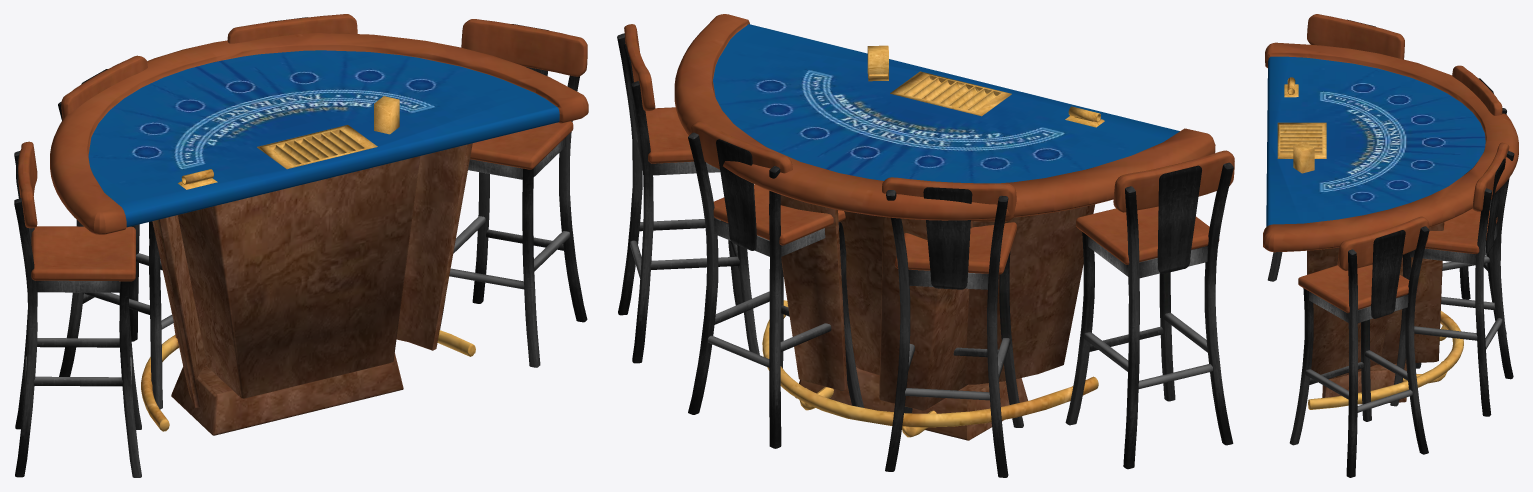
Rendered from black_jack_table.glb.
The picture shows the model from 3 angles, left to right: view 1: azimuth 30°, elevation 25°; view 2: azimuth 150°, elevation 25°; view 3: azimuth 270°, elevation 25°; orthographic projection. The views are drawn at different scales.
Visible parts, largest first — view 1: Object_25, Object_13; view 2: Object_25, Object_13; view 3: Object_25, Object_13.
Part boxes in pixels (x1=…): Object_25: x1=50, y1=33, x2=588, y2=435; Object_13: x1=14, y1=14, x2=587, y2=477; Object_25: x1=674, y1=14, x2=1215, y2=440; Object_13: x1=617, y1=24, x2=1234, y2=477; Object_25: x1=1263, y1=42, x2=1518, y2=409; Object_13: x1=1267, y1=14, x2=1514, y2=477.
Size of the model in its own units: 1.9e+07 by 9353767 by 8751749.
3 materials, 3 textured.
